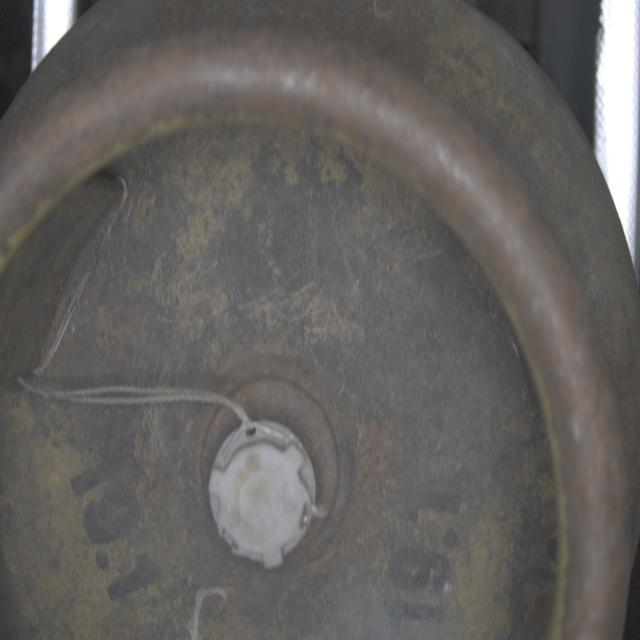Cap: (208, 416, 320, 568)
